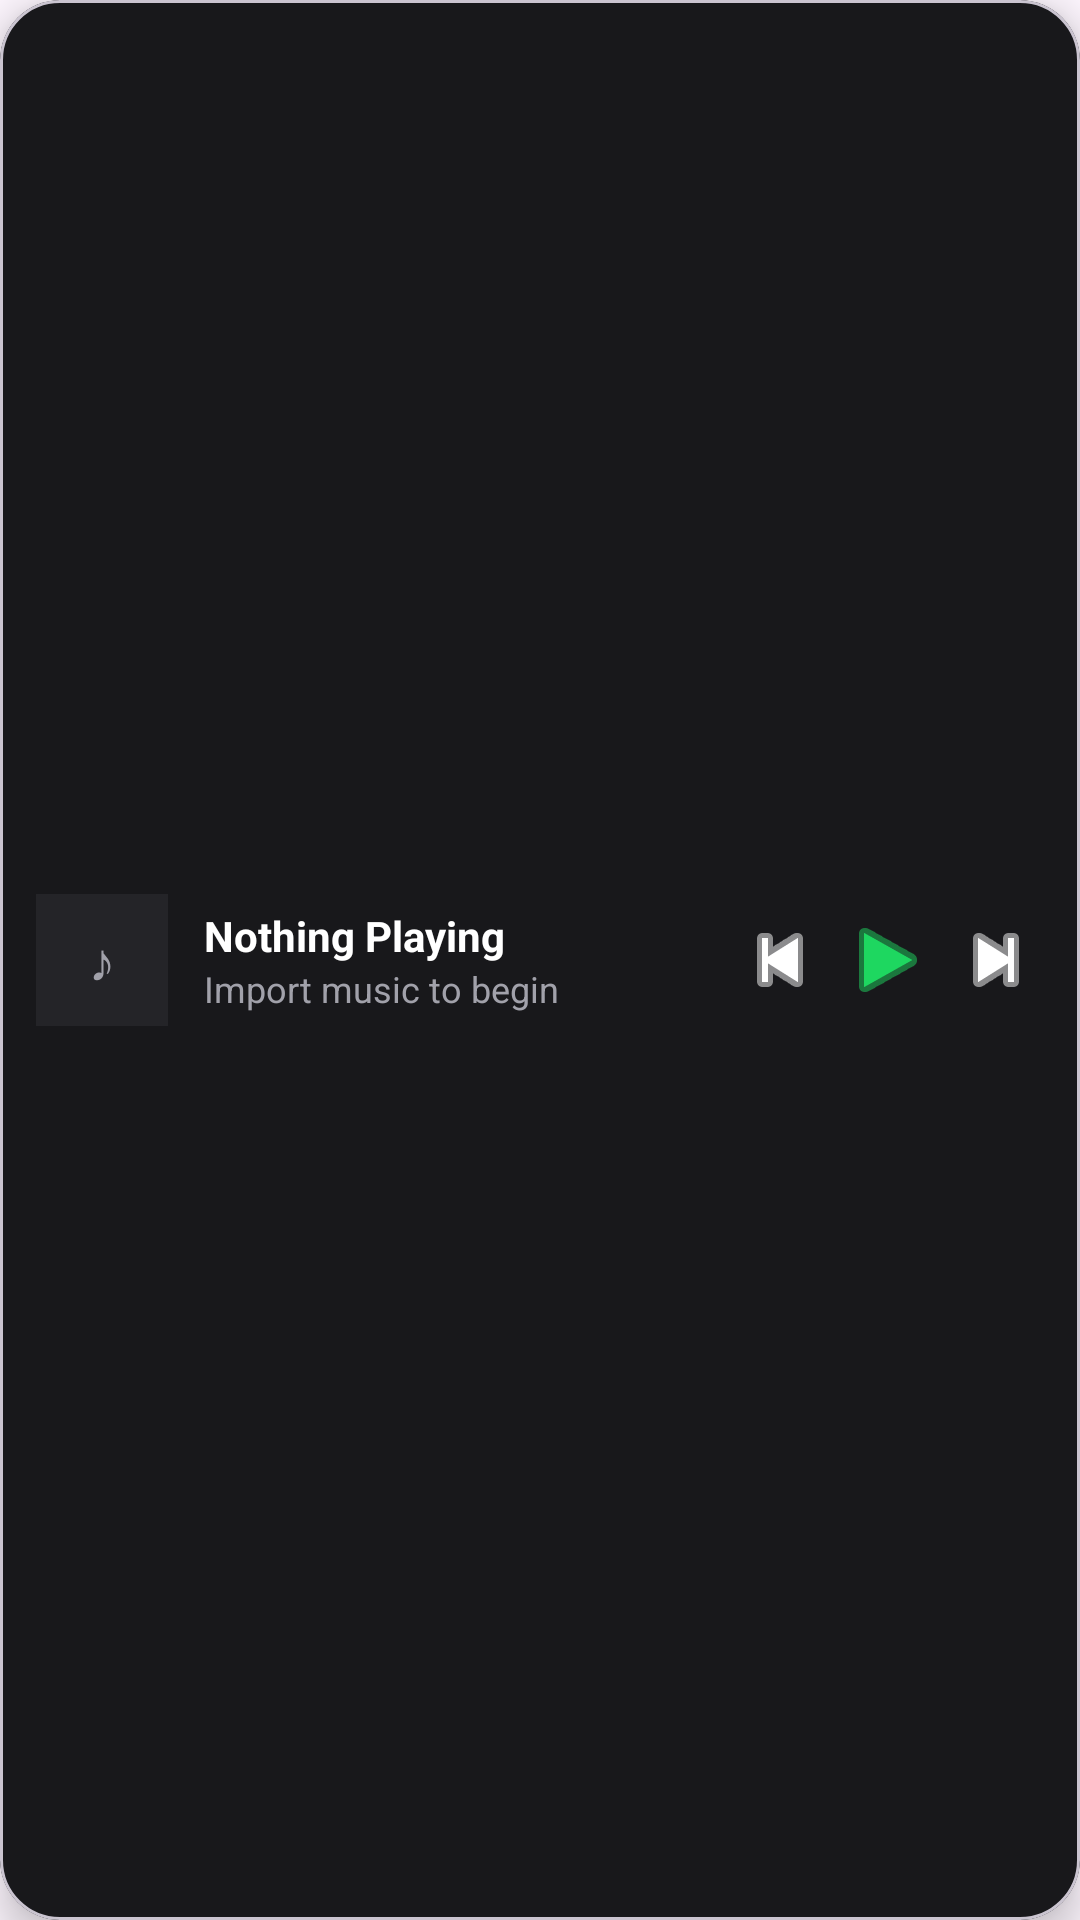

Locate icon controls on the screen. Image size 1080 x 1920, boxes as (x1, y1, x2, y2).
next: (973, 933, 1019, 987)
play: (859, 928, 917, 992)
previous: (757, 933, 803, 987)
